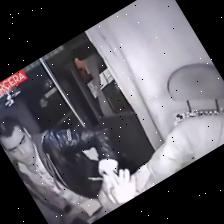person: (0, 116, 118, 223), (105, 115, 223, 204)
